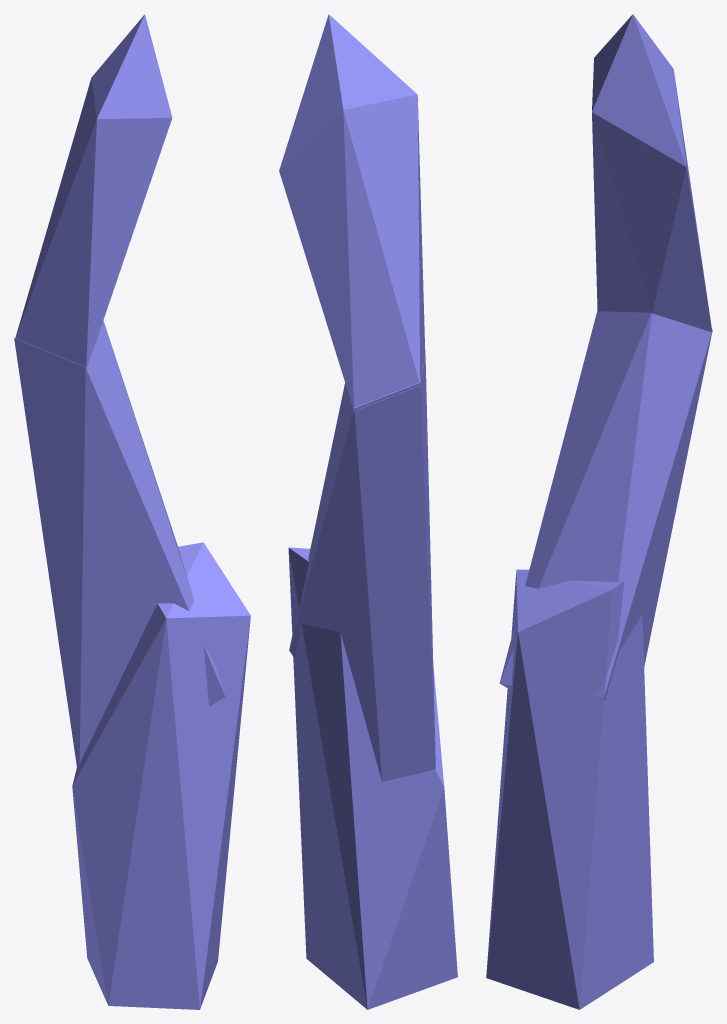
File: Tree_02_Collider_01.fbx
3 views of the same model, side by side, from view 1: azimuth 30°, elevation 25°; view 2: azimuth 150°, elevation 25°; view 3: azimuth 270°, elevation 25° (orthographic). The views are drawn at different scales.
Visible parts, largest first — view 1: Collider1, Collider2, Collider3; view 2: Collider1, Collider3, Collider2; view 3: Collider1, Collider2, Collider3.
Boxes of the visible parts, x1,y1,x2,y2 form: Collider1: [72, 542, 250, 1009]; Collider2: [14, 320, 225, 766]; Collider3: [15, 14, 172, 368]; Collider1: [288, 547, 457, 1009]; Collider3: [279, 14, 425, 411]; Collider2: [289, 355, 435, 781]; Collider1: [486, 569, 653, 1009]; Collider2: [499, 310, 712, 700]; Collider3: [592, 14, 712, 332].
Bounding box in the file's own units: 36.87 × 205 × 43.25.
